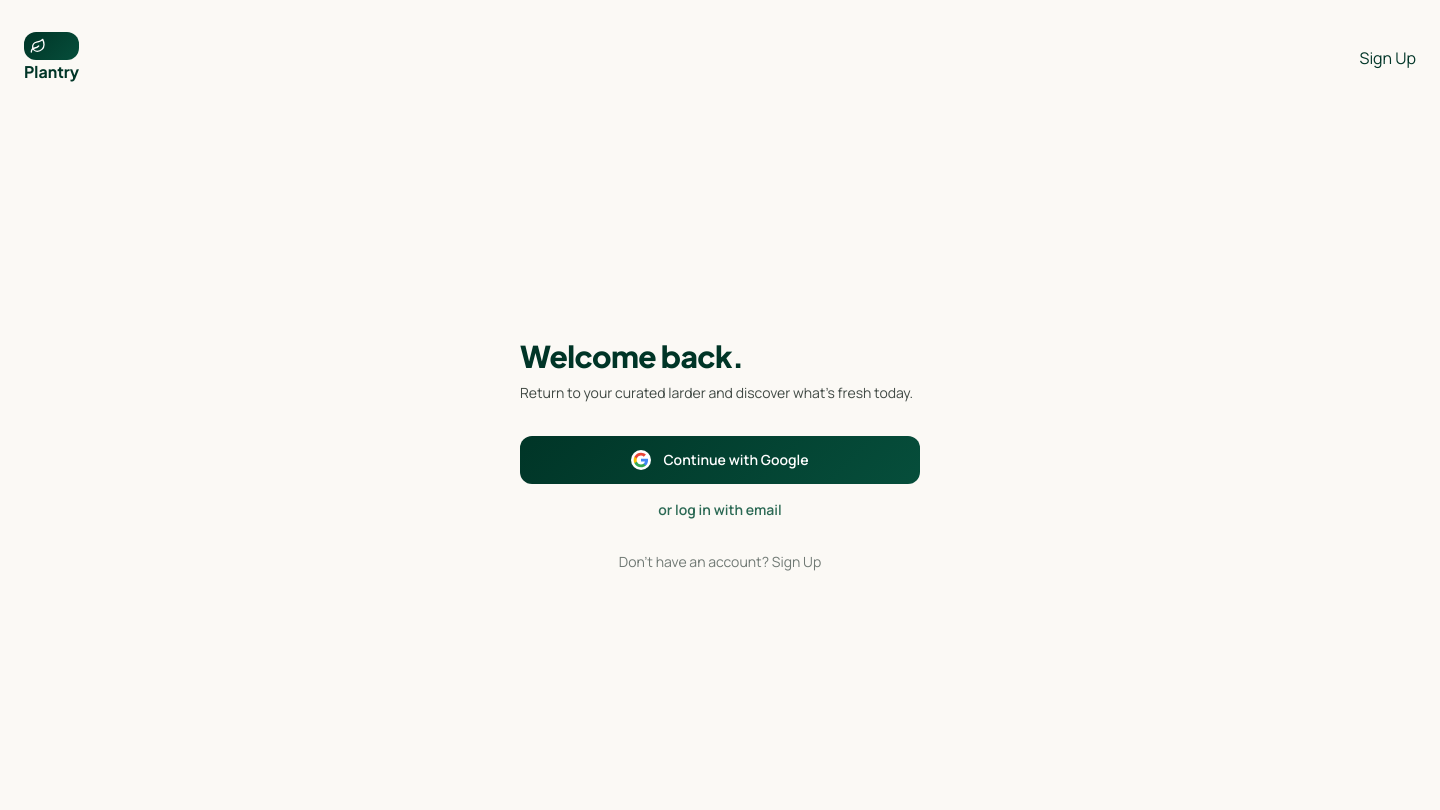
Scenario: Login page › renders email and password inputs after revealing the email form
Click the button "or log in with email": click(720, 510) [520,500,920,520]
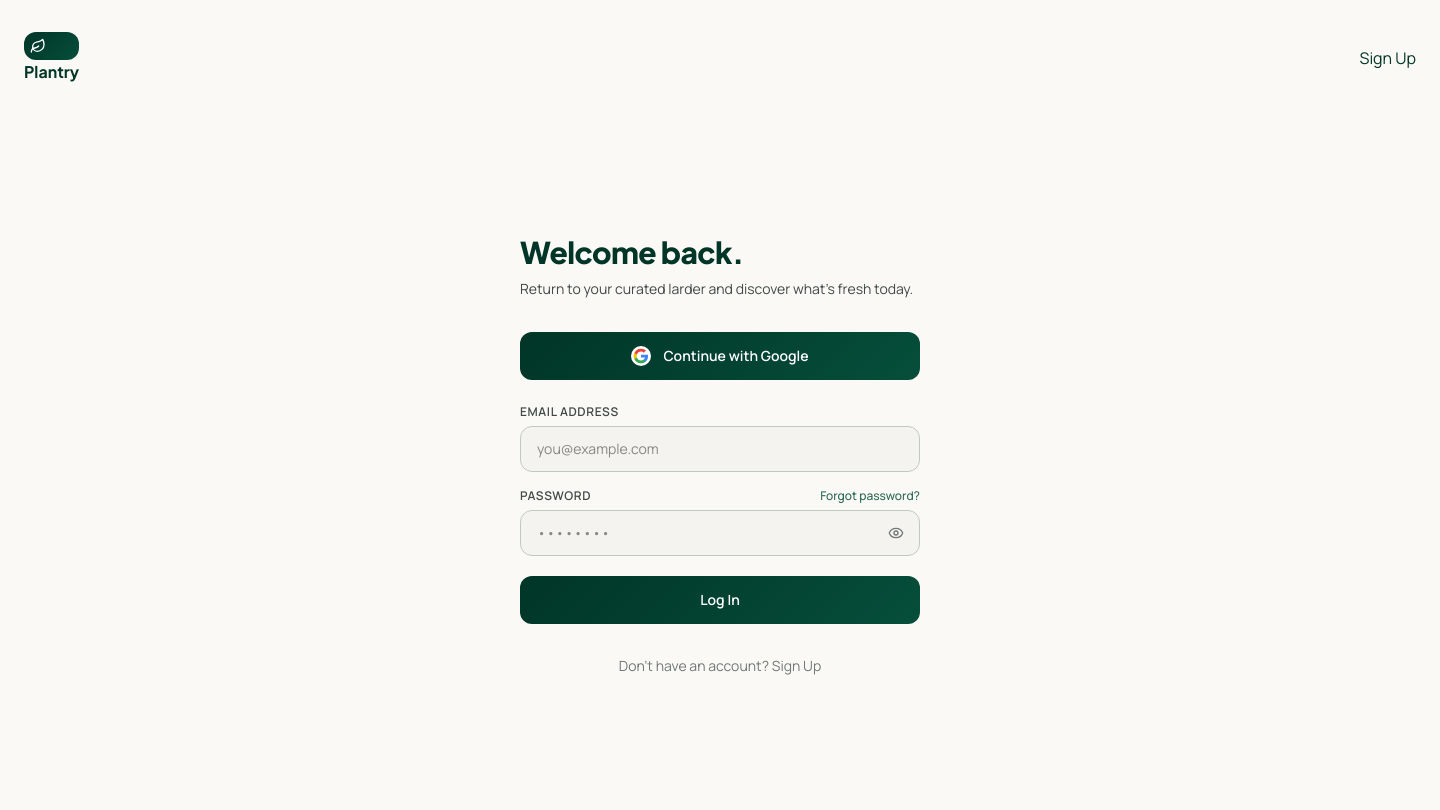
expect the field with placeholder "you@example.com" is shown: met, box [520,426,920,472]
expect the password field with placeholder "••••••••" is shown: met, box [520,510,920,556]
